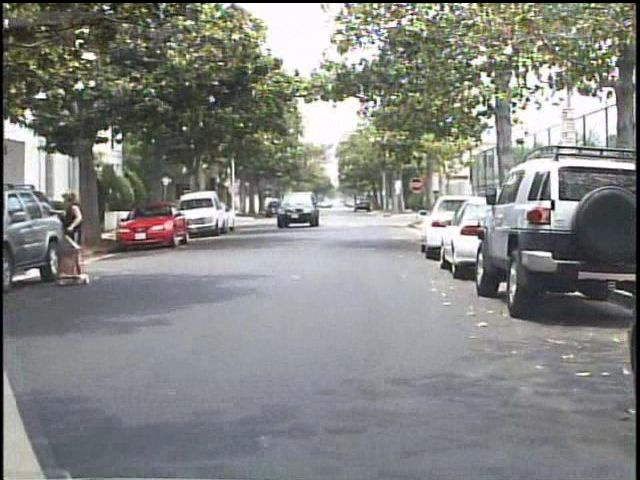person: (63, 185, 102, 287)
